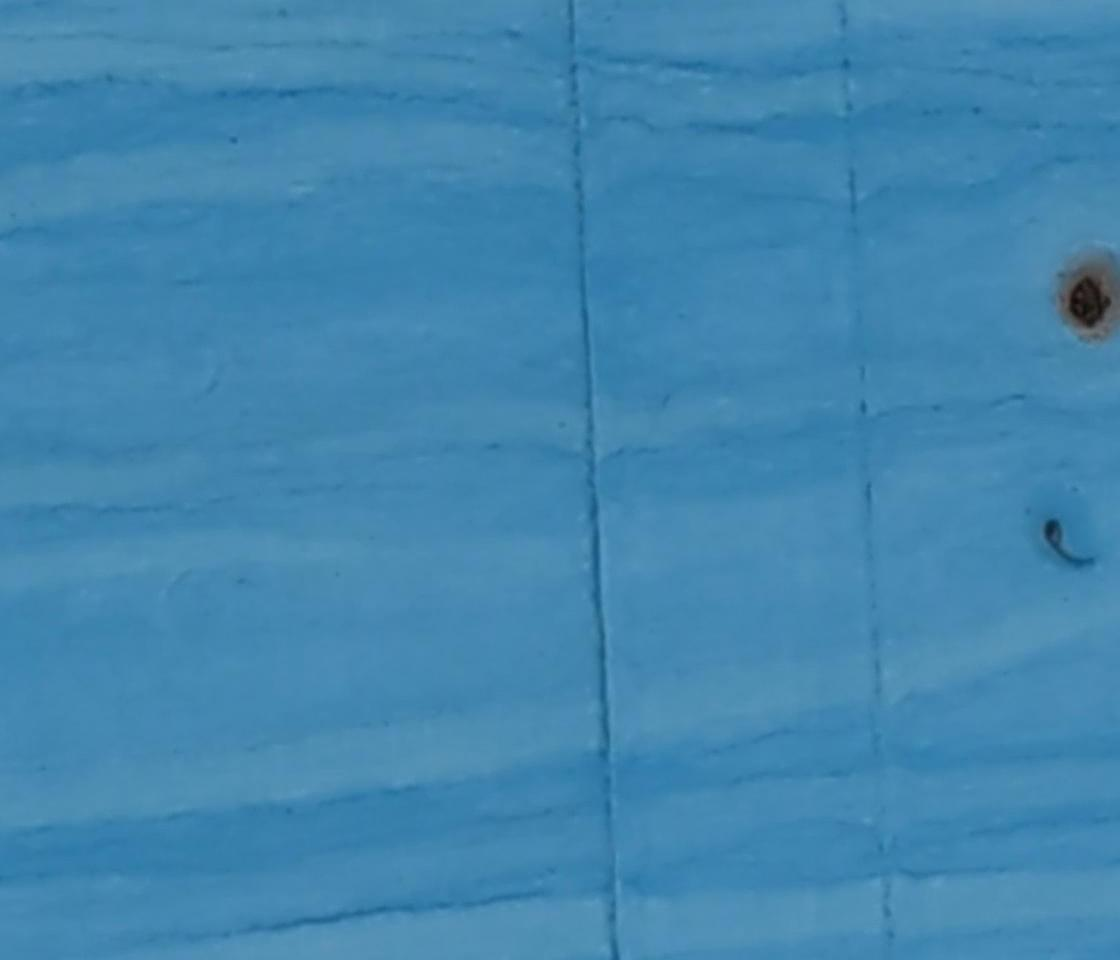rust: (1055, 270, 1114, 333)
